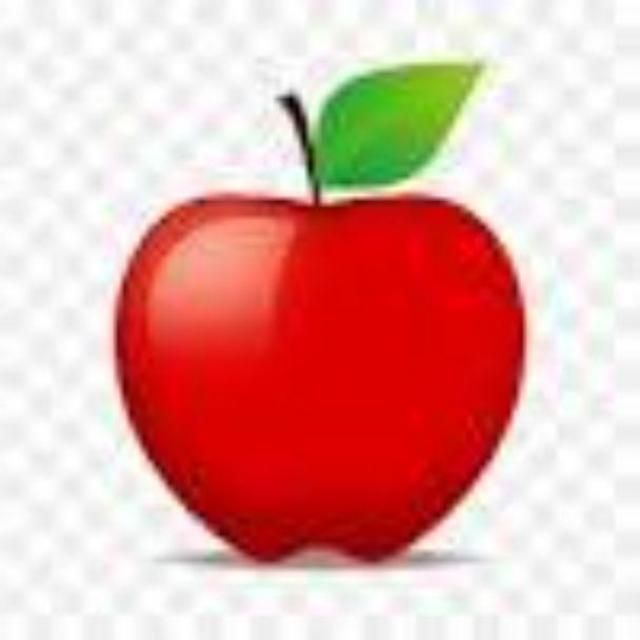HEALTHY: (120, 160, 542, 573)
